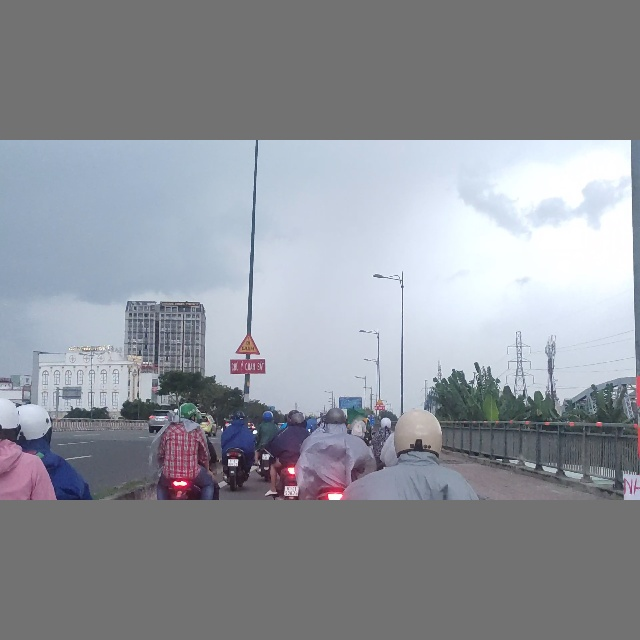W.245a: (235, 332, 260, 354)
